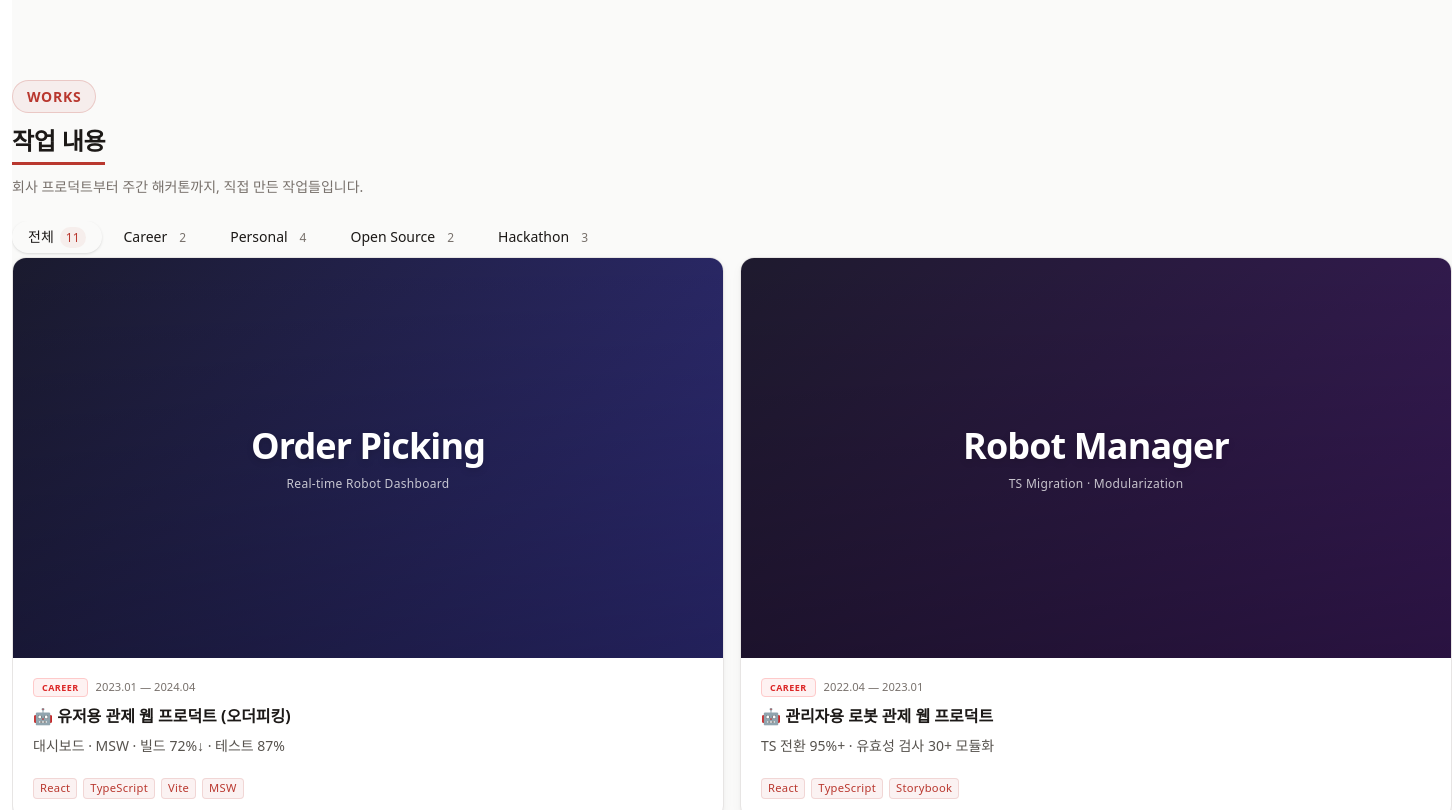
WorkSection › filters the rendered work cards by type
Click the tab "Open Source2" at (405, 237), box [334, 221, 476, 253]
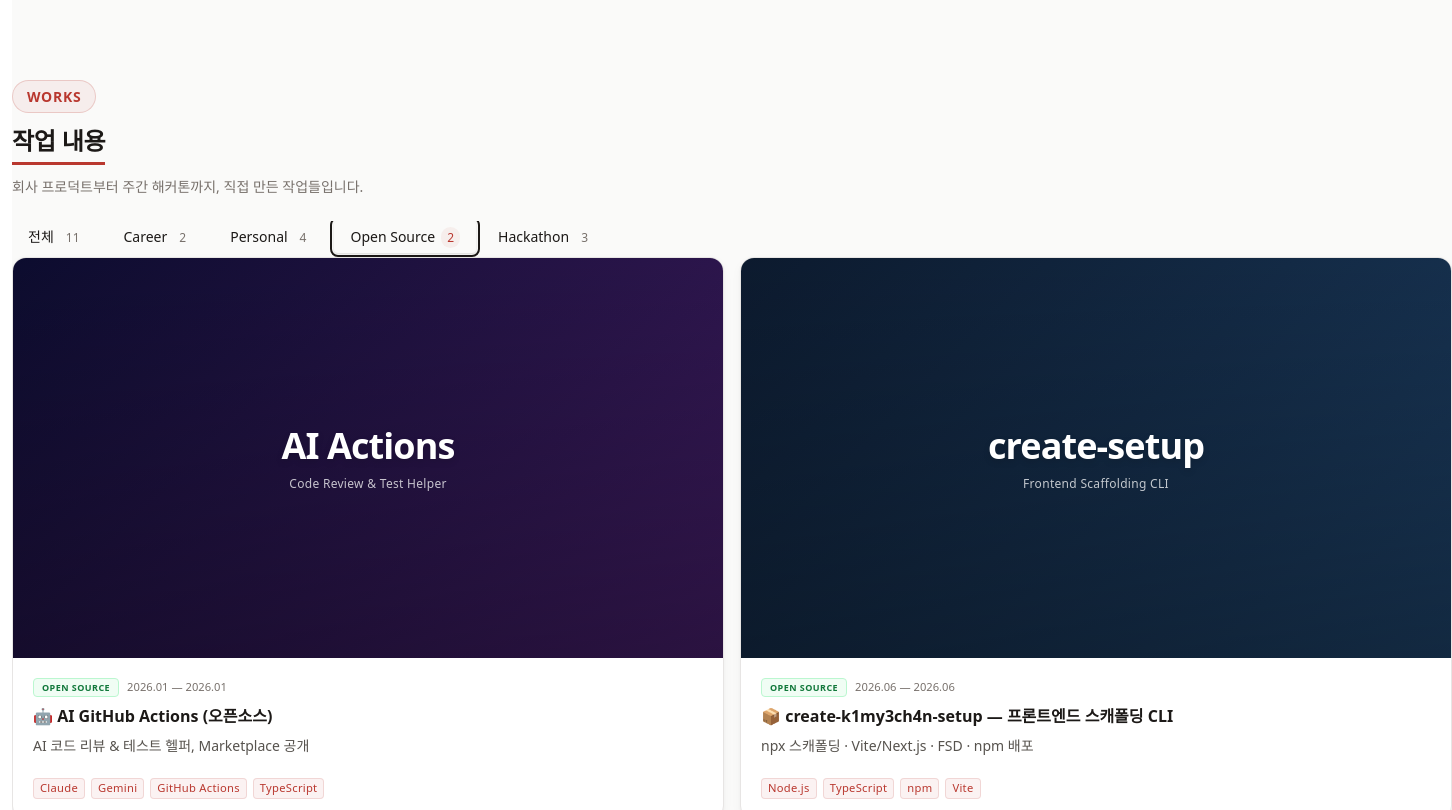
Expected: the heading "🤖 AI GitHub Actions (오픈소스)" is shown, [33, 705, 272, 727]
Result: the button "🤖 유저용 관제 웹 프로덕트 (오더피킹)" is gone
Result: the button "🤖 관리자용 로봇 관제 웹 프로덕트" is gone
